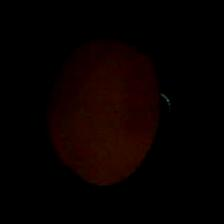fertile: (42, 34, 166, 192)
